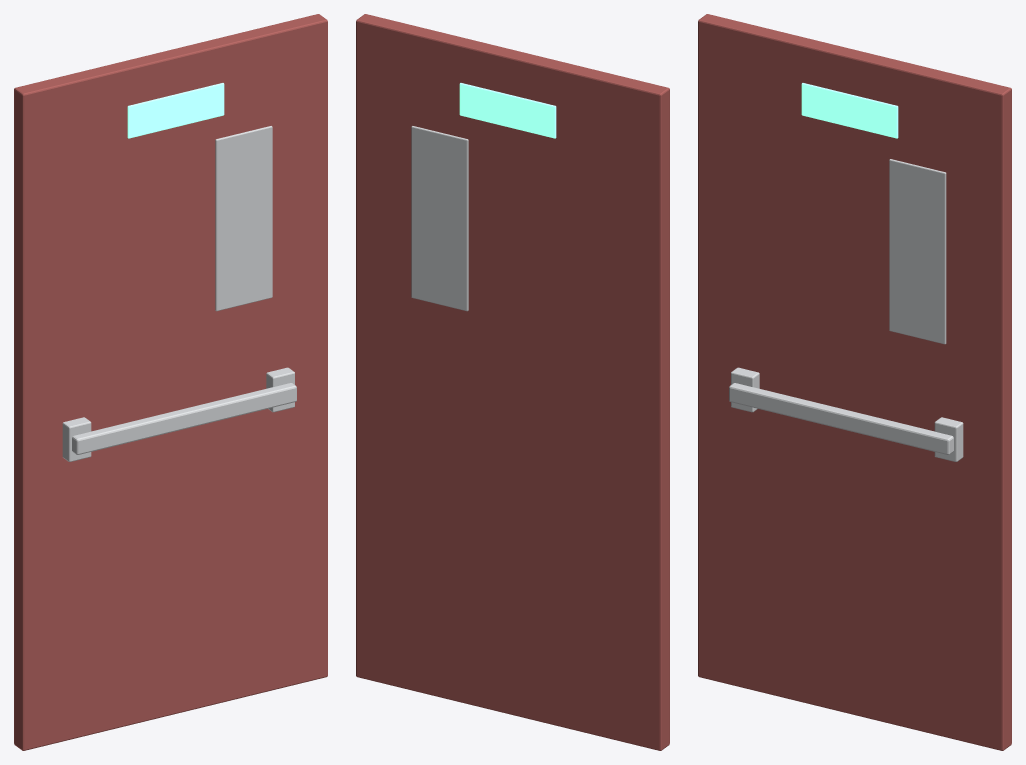
Rendered from door_emergency_exit.glb.
The picture shows the model from 3 angles, left to right: view 1: azimuth 30°, elevation 25°; view 2: azimuth 150°, elevation 25°; view 3: azimuth 330°, elevation 25°; orthographic projection.
Visible parts, largest first — view 1: ExitSlab, VisionFrame, CrashPushBar, ExitBadge, CrashMountL, CrashMountR; view 2: ExitSlab, VisionFrame, ExitBadge; view 3: ExitSlab, VisionFrame, CrashPushBar, ExitBadge, CrashMountR, CrashMountL.
Boxes of the visible parts, box(x1,y1,x2,y2) form: ExitSlab: box(14, 14, 327, 750); VisionFrame: box(215, 126, 272, 311); CrashPushBar: box(72, 383, 296, 454); ExitBadge: box(127, 83, 224, 138); CrashMountL: box(62, 417, 91, 461); CrashMountR: box(266, 367, 294, 412); ExitSlab: box(356, 14, 669, 750); VisionFrame: box(411, 126, 468, 311); ExitBadge: box(459, 83, 556, 138); ExitSlab: box(698, 14, 1011, 750); VisionFrame: box(889, 159, 946, 344); CrashPushBar: box(729, 383, 953, 454); ExitBadge: box(801, 83, 898, 138); CrashMountR: box(934, 417, 963, 461); CrashMountL: box(731, 367, 759, 412).
Size of the model in its own units: 1.08 by 2.22 by 0.135.
